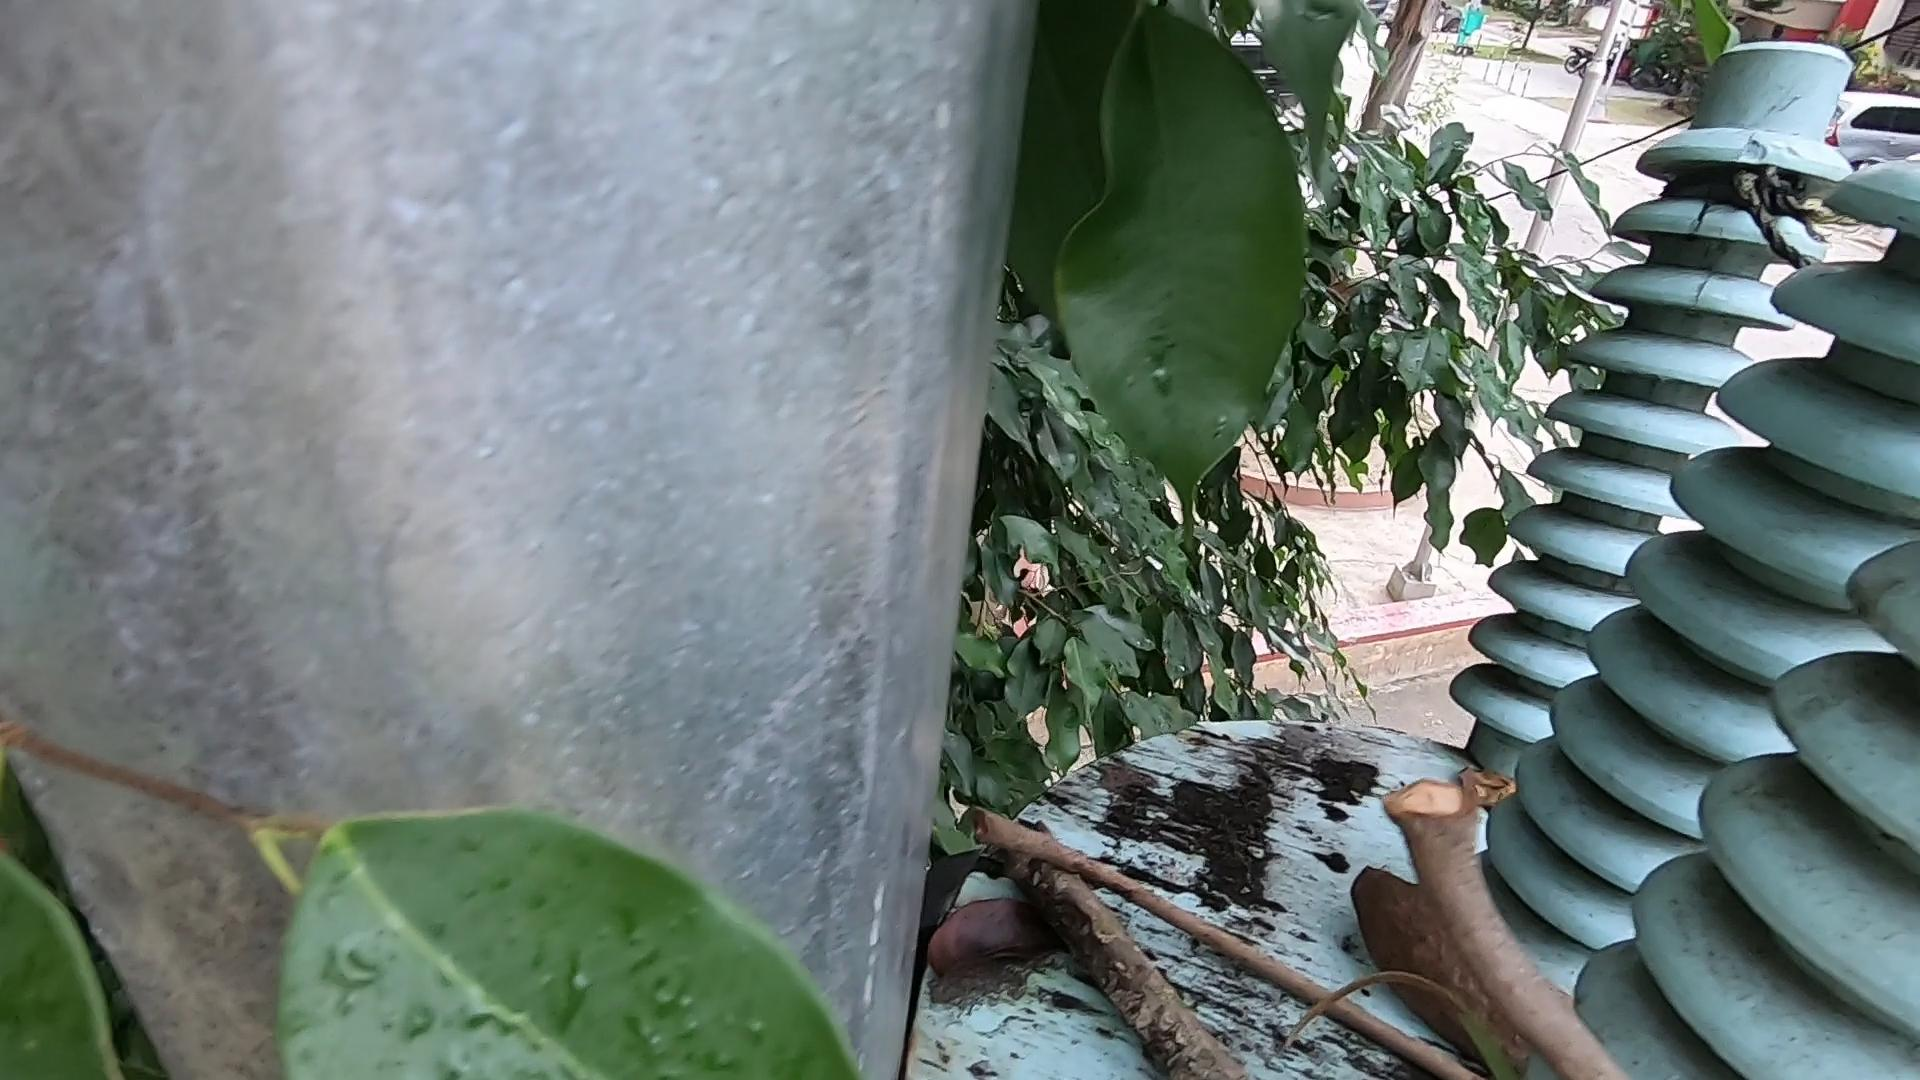leaf: (906, 919, 1089, 1004)
mahogany fruit: (1262, 822, 1585, 1067)
tree branch: (964, 794, 1455, 1080), (1435, 765, 1692, 1080), (997, 832, 1184, 1080)
